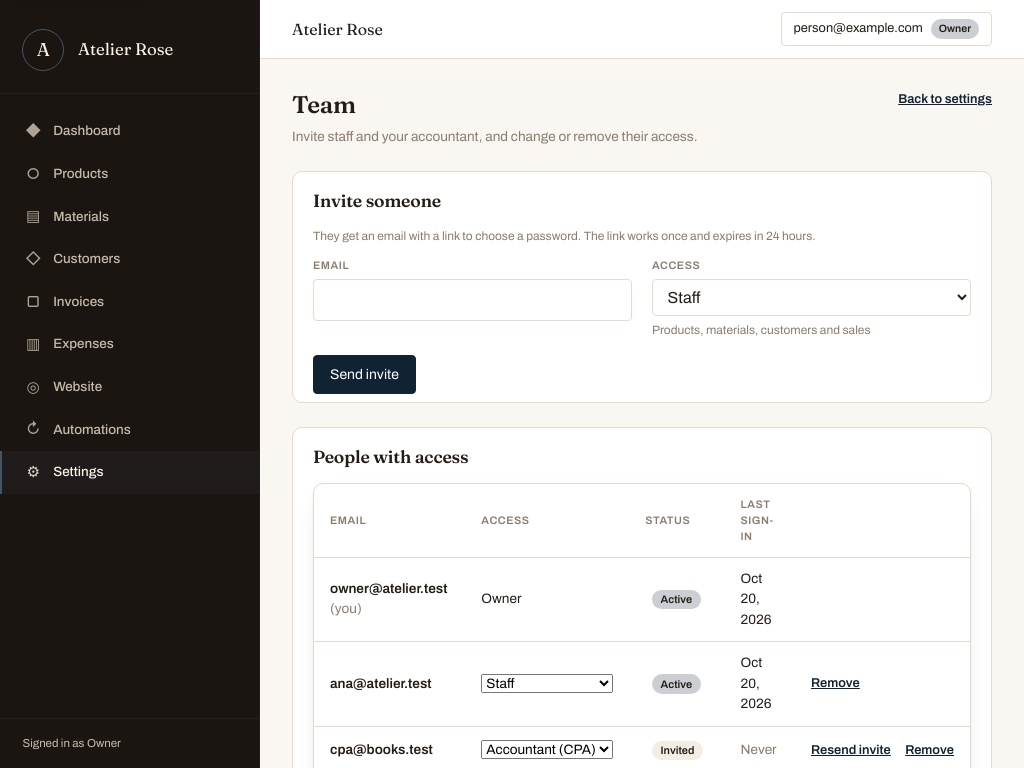
Scenario: change, resend, remove › changes a member's access
Select "Accountant (CPA)" in the dropdown named "Access for ana@atelier.test": (547, 683) [481,674,613,693]
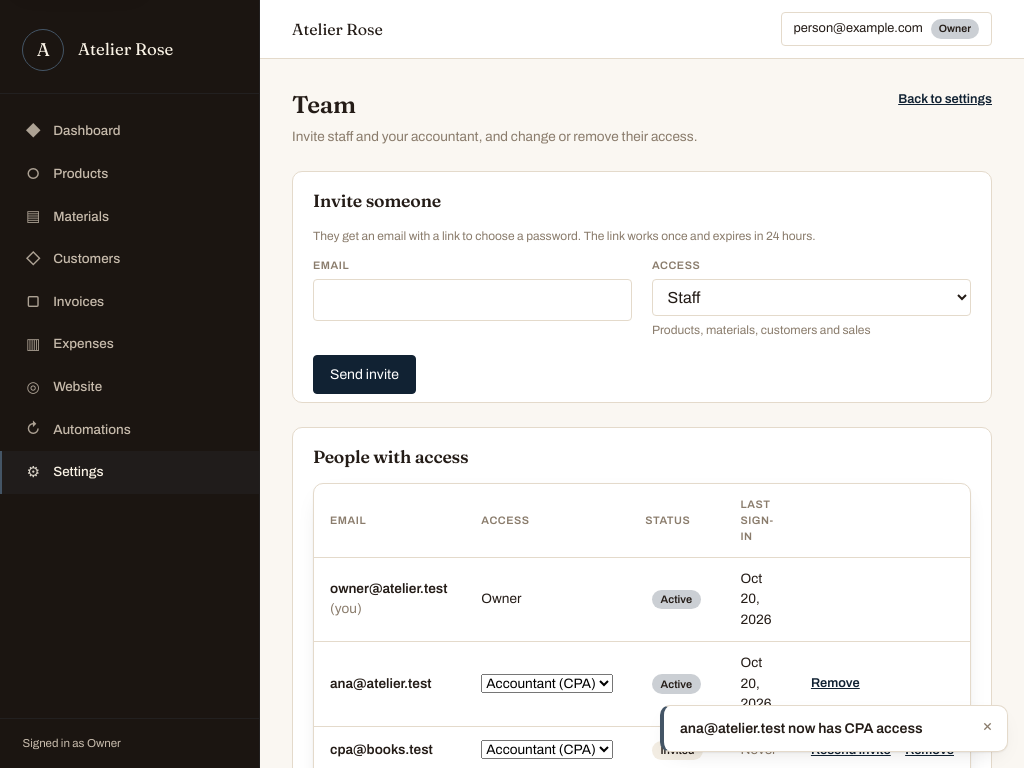
Check: the text "ana@atelier.test now has CPA access" is shown, box [680,721,923,736]
